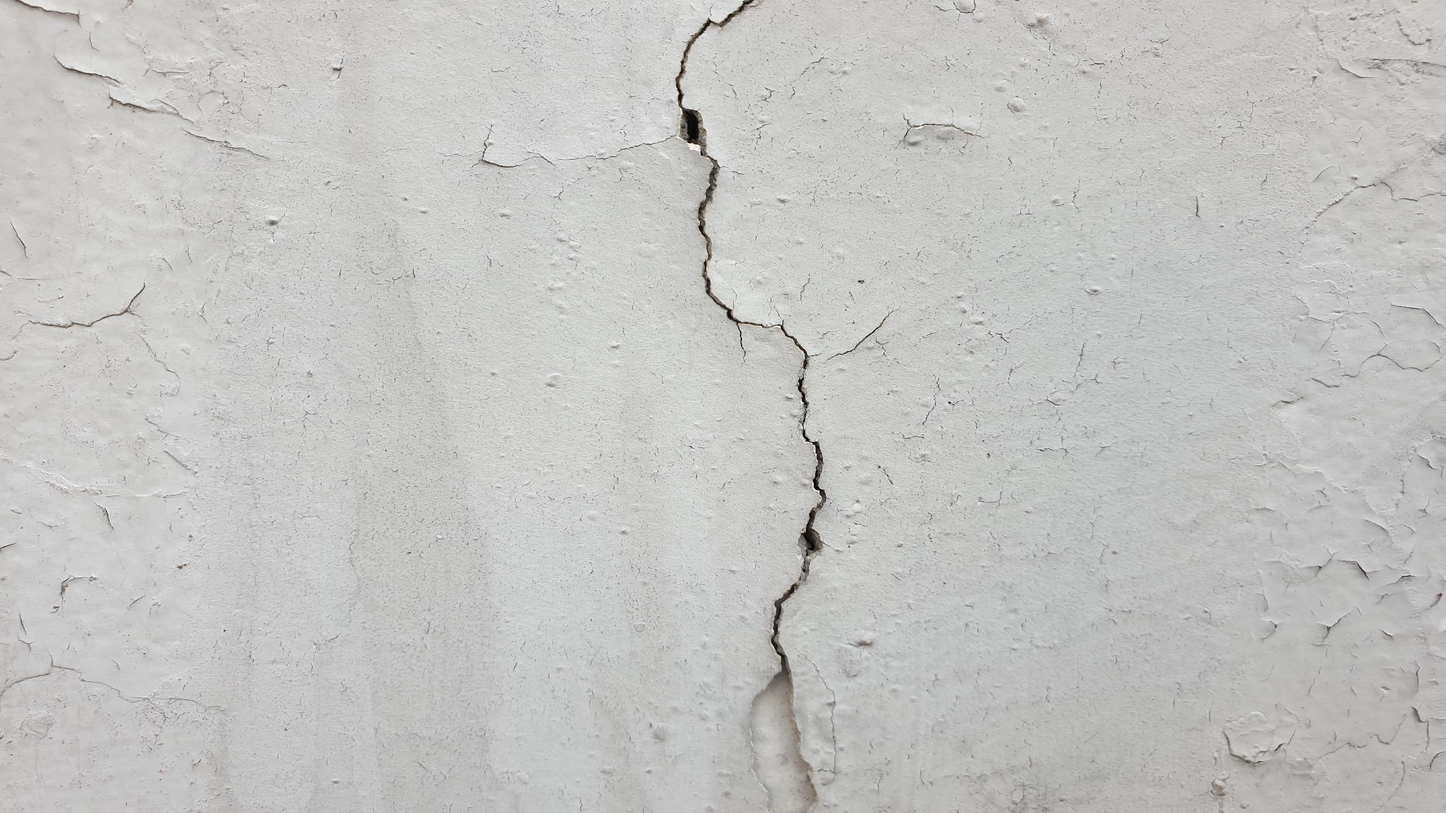crack: (672, 0, 826, 675)
